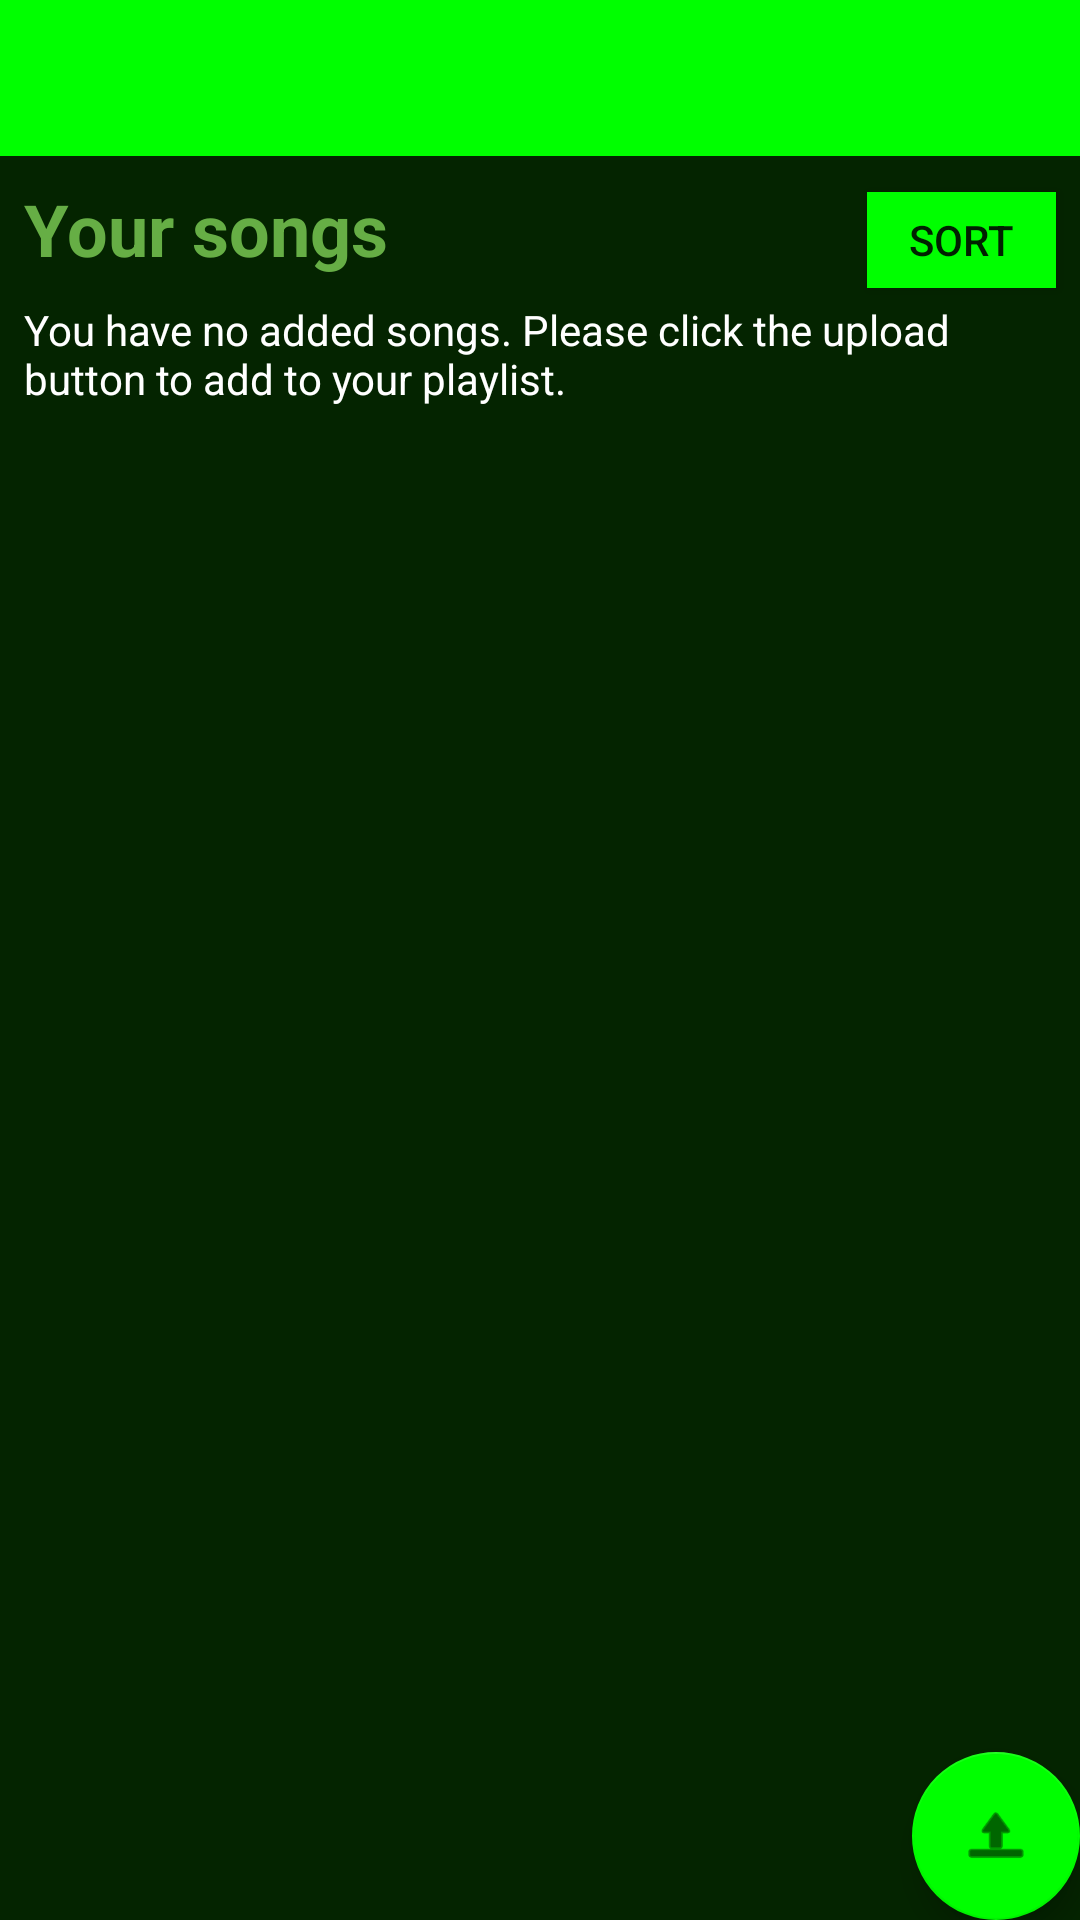

Icons on this 1080*1920 Android screen, each with its box as {"x1": x1, "y1": y1, "x2": x2, "y2": y2}:
upload you tube: {"x1": 912, "y1": 1752, "x2": 1080, "y2": 1920}
